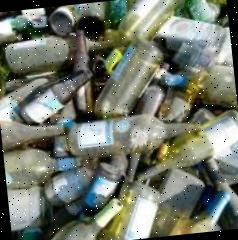glass: (63, 105, 208, 162), (16, 68, 99, 128), (35, 196, 128, 240), (136, 135, 216, 179), (78, 160, 124, 218)
